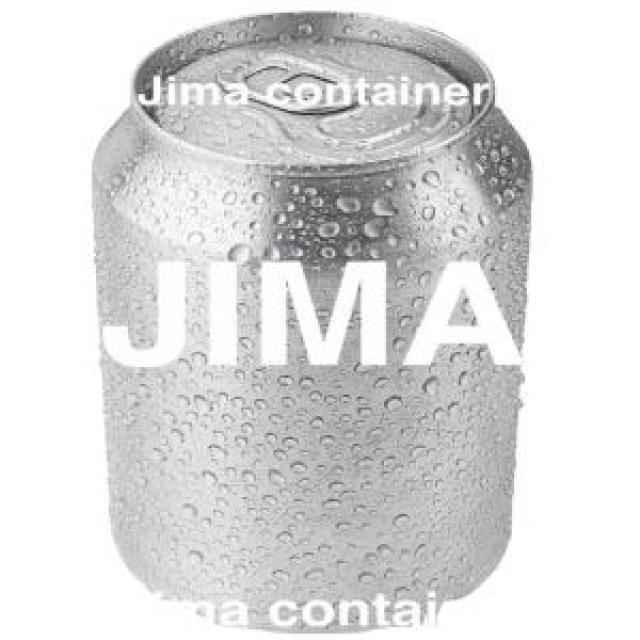non-organic waste: (83, 24, 550, 640)
